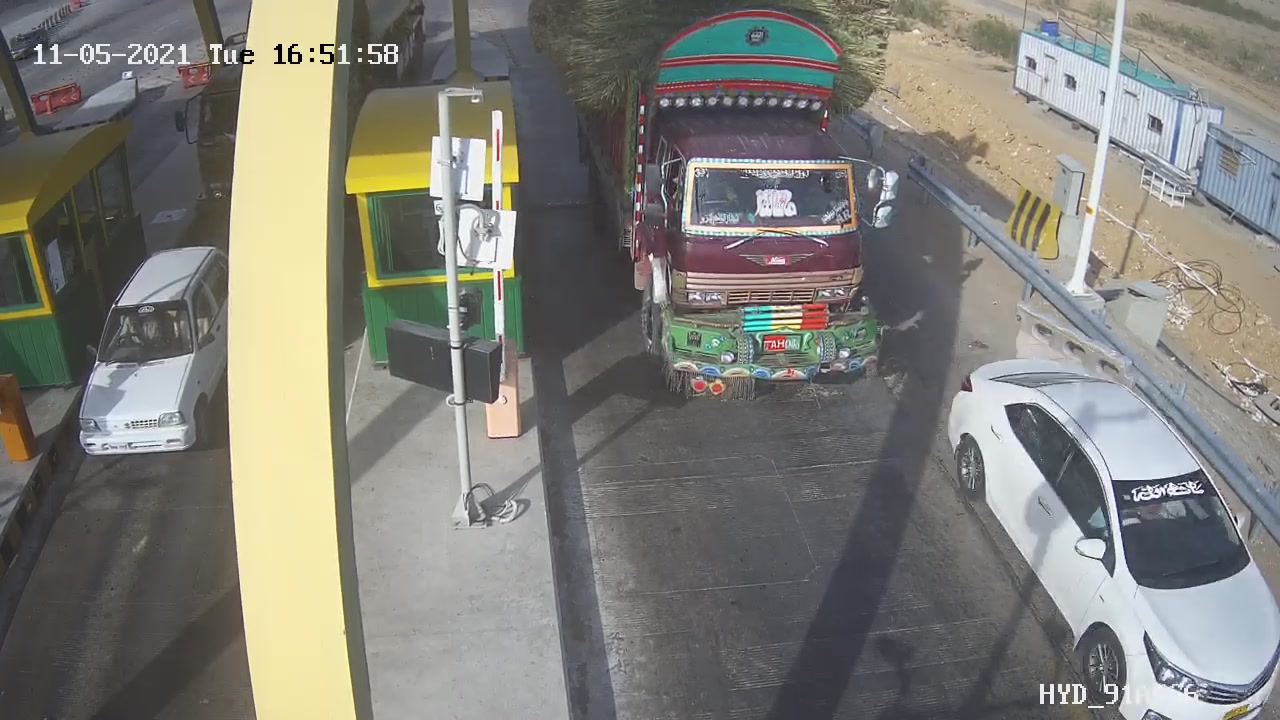F5: (544, 1, 943, 429)
